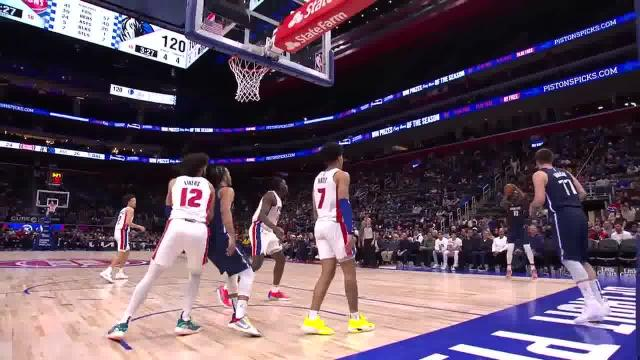ball-handler: (498, 180, 542, 284)
player: (298, 138, 381, 338), (530, 148, 622, 327), (142, 151, 209, 336), (199, 158, 261, 341), (244, 166, 292, 310), (104, 194, 140, 286)
